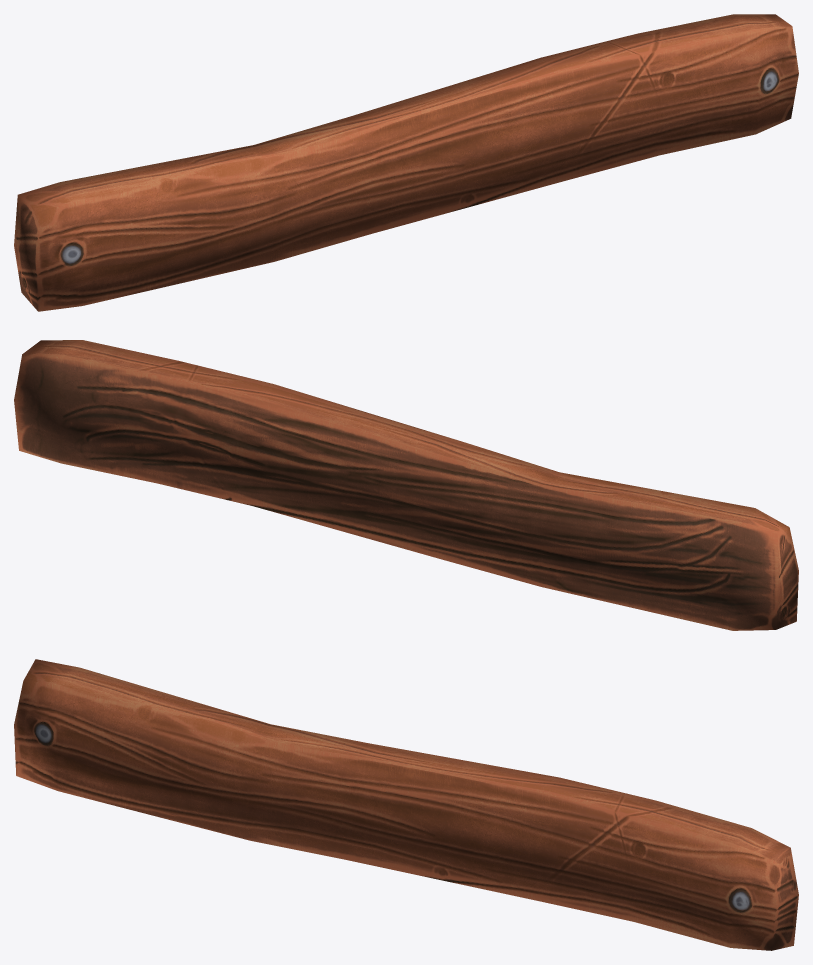
Rendered from fence_plank1.obj.
The picture shows the model from 3 angles, top to bottom: view 1: azimuth 30°, elevation 25°; view 2: azimuth 150°, elevation 25°; view 3: azimuth 330°, elevation 25°; orthographic projection.
Parts seen in each view (by area): view 1: STPlank1_Plano.016; view 2: STPlank1_Plano.016; view 3: STPlank1_Plano.016.
Part boxes in pixels (x1,y1,x2,y2): STPlank1_Plano.016: (14, 14, 798, 311); STPlank1_Plano.016: (14, 340, 798, 630); STPlank1_Plano.016: (14, 659, 798, 950).
Bounding box in the file's own units: 1.44 × 0.211 × 0.091.
